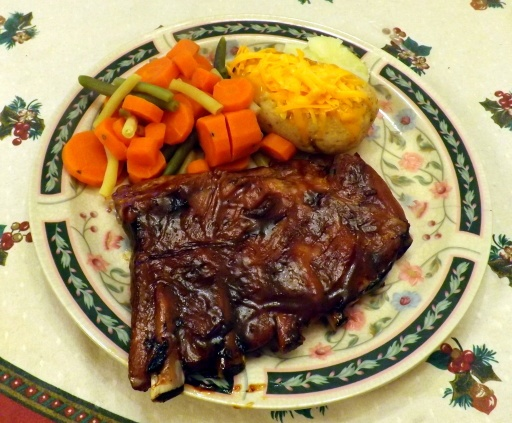background: (49, 24, 330, 266)
